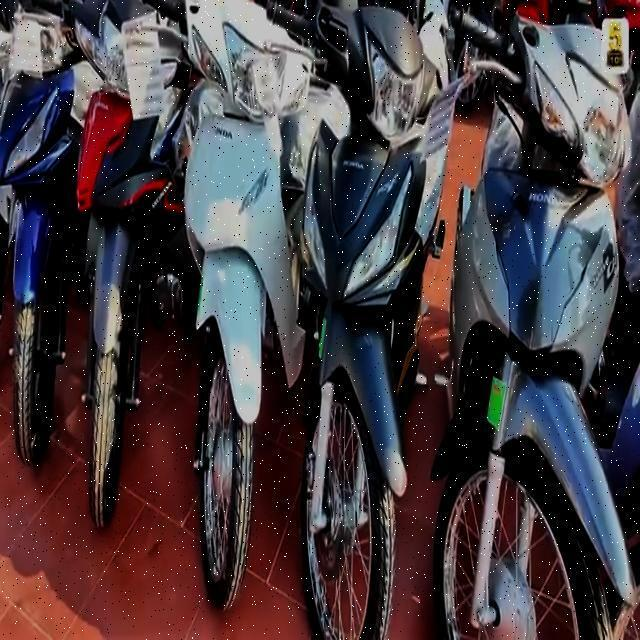motorcycle: (447, 6, 631, 635), (285, 3, 441, 640), (165, 0, 306, 614), (64, 7, 178, 523)
